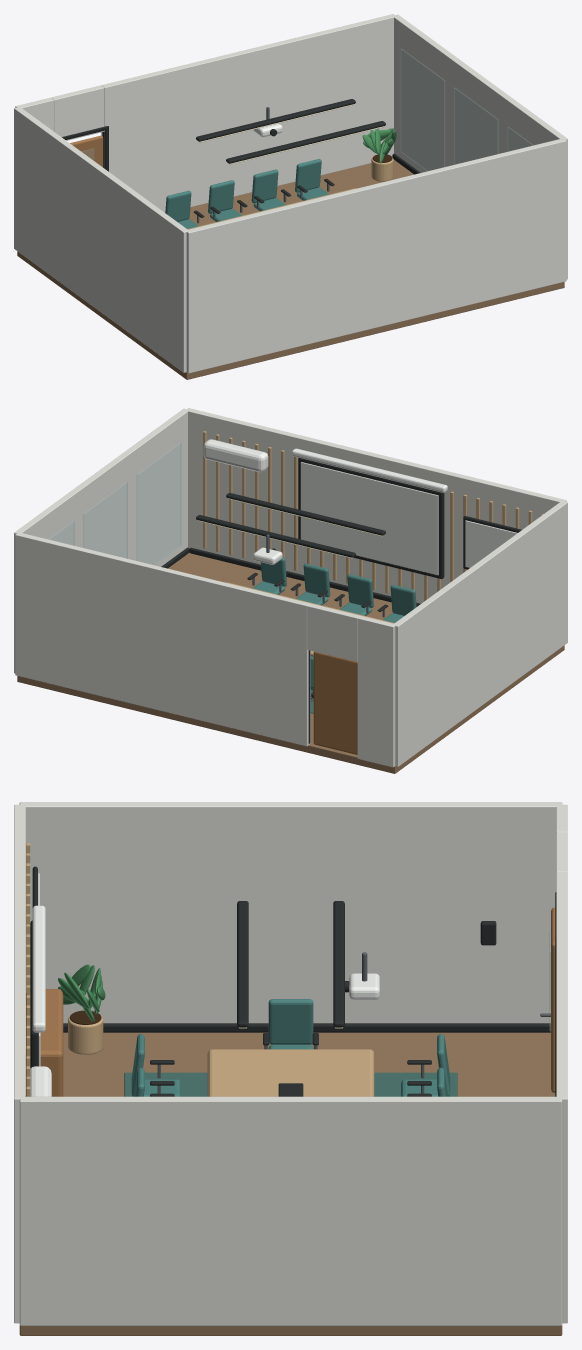
File: meeting_room.glb
The picture shows the model from 3 angles, top to bottom: view 1: azimuth 30°, elevation 25°; view 2: azimuth 150°, elevation 25°; view 3: azimuth 270°, elevation 25°; orthographic projection. The views are drawn at different scales.
Parts seen in each view (by area): view 1: Wall_Back, Wall_Front_Right, Wall_Left, Wall_Right, Room_Floor, GlassPanel_03, GlassPanel_02, Wall_Front_Top, LightFixture_02, LightFixture_01, Chair_04_Back, Chair_02_Back (+4 smaller); view 2: Wall_Front_Right, Wall_Left, Wall_Back, Wall_Right, Screen, Room_Floor, Wall_Front_Left, GlassPanel_01, Door, GlassPanel_02, Wall_Front_Top, Screen_Frame (+10 smaller); view 3: Wall_Right, Wall_Left, Room_Floor, MeetingTable_Top, Wall_Back, Wall_Front_Right, Skirting_Left, Meeting_Rug, StorageCabinet, Chair_09_Back, Screen_Roller, LightFixture_01 (+5 smaller).
Part boxes in pixels (box(x1,y1,x2,y2)): Wall_Back: box(186, 139, 566, 373); Wall_Front_Right: box(101, 14, 395, 212); Wall_Left: box(14, 107, 187, 372); Wall_Right: box(394, 14, 567, 279); Room_Floor: box(17, 160, 564, 379); GlassPanel_03: box(401, 49, 444, 170); GlassPanel_02: box(454, 88, 498, 164); Wall_Front_Top: box(51, 85, 104, 140); LightFixture_02: box(196, 99, 355, 141); LightFixture_01: box(226, 121, 385, 163); Chair_04_Back: box(295, 159, 321, 192); Chair_02_Back: box(208, 180, 234, 213); Wall_Front_Right: box(15, 533, 310, 746); Wall_Left: box(394, 501, 567, 766); Wall_Back: box(186, 408, 566, 603); Wall_Right: box(14, 408, 188, 673); Screen: box(300, 462, 438, 575); Room_Floor: box(17, 552, 564, 773); Wall_Front_Left: box(357, 616, 395, 767); GlassPanel_01: box(137, 443, 180, 564); Door: box(313, 651, 357, 754); GlassPanel_02: box(83, 482, 127, 558); Wall_Front_Top: box(307, 603, 360, 661); Screen_Frame: box(298, 457, 444, 578); Wall_Right: box(19, 1096, 562, 1325); Wall_Left: box(19, 802, 562, 1023); Room_Floor: box(19, 1032, 562, 1335); MeetingTable_Top: box(207, 1049, 374, 1096); Wall_Back: box(14, 804, 25, 1323); Wall_Front_Right: box(556, 871, 567, 1323); Skirting_Left: box(63, 1023, 550, 1032); Meeting_Rug: box(124, 1072, 457, 1096); StorageCabinet: box(26, 989, 63, 1096); Chair_09_Back: box(268, 999, 313, 1044); Screen_Roller: box(32, 905, 45, 1032); LightFixture_01: box(237, 901, 248, 1027).
Bounding box in the file's own units: 9.15 × 3.38 × 7.15.
